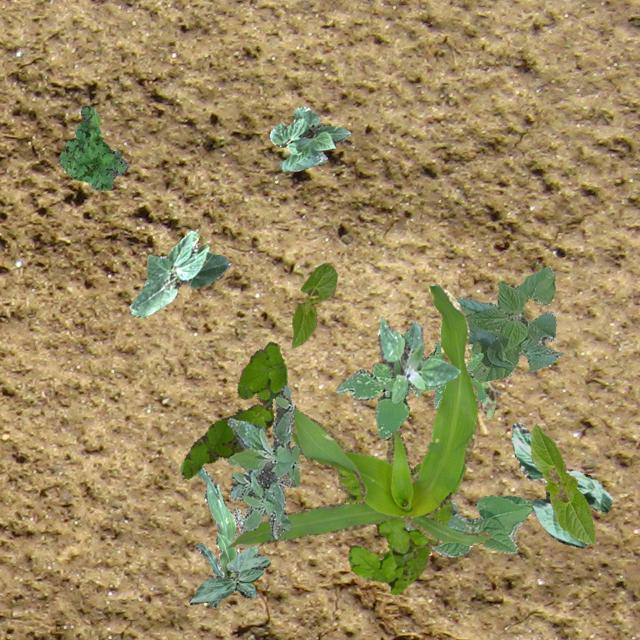crop: (226, 284, 488, 548), (454, 264, 562, 382), (511, 422, 612, 546), (195, 466, 257, 606), (128, 230, 228, 316), (404, 494, 532, 556), (530, 422, 594, 542), (268, 106, 349, 170), (188, 548, 270, 604), (290, 262, 336, 348)
weed: (335, 462, 451, 594), (180, 340, 286, 478), (334, 326, 436, 438), (226, 384, 298, 538), (376, 316, 459, 402), (384, 340, 486, 408), (58, 104, 128, 190), (478, 379, 499, 416)
